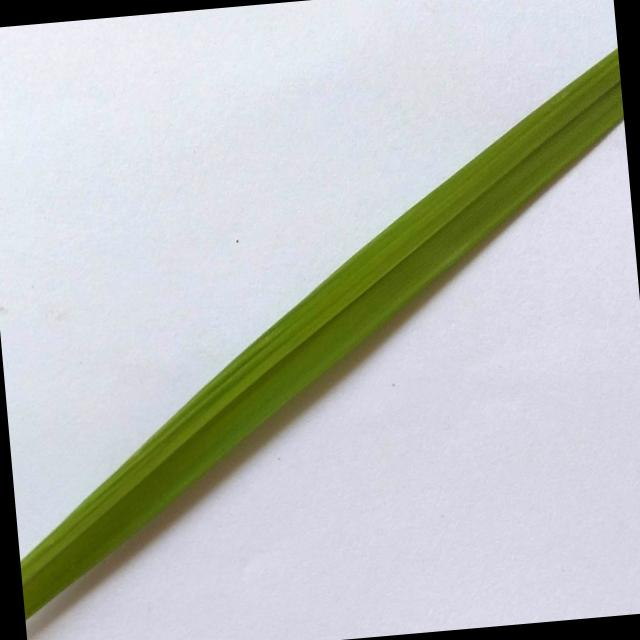Rice_Healthy: (20, 49, 623, 618)
